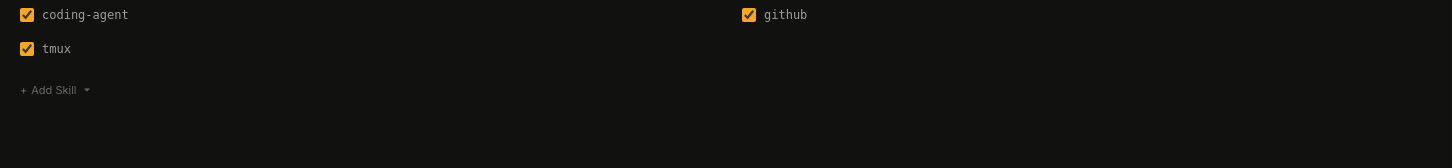
Scenario: SkillsManager › Add Skill dropdown shows unassigned skills
Expected: the text "github" is shown, [764,6,807,24]
# Click Add Skill button
Click the text "Add Skill": [54, 90] box [31,82,77,98]
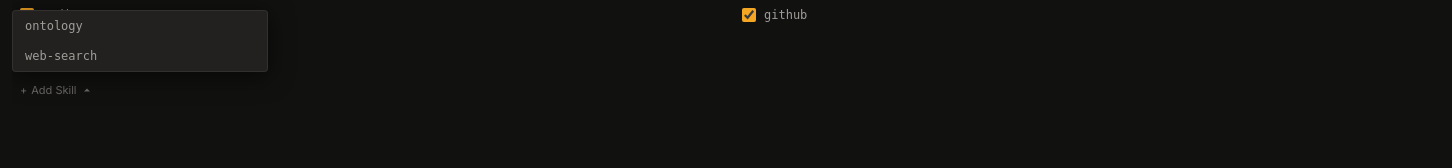
Now the button "ontology" is shown
Now the button "web-search" is shown, box [13,41,267,71]
# Select ontology
Click the button "ontology": [140, 26] box [13,11,267,41]
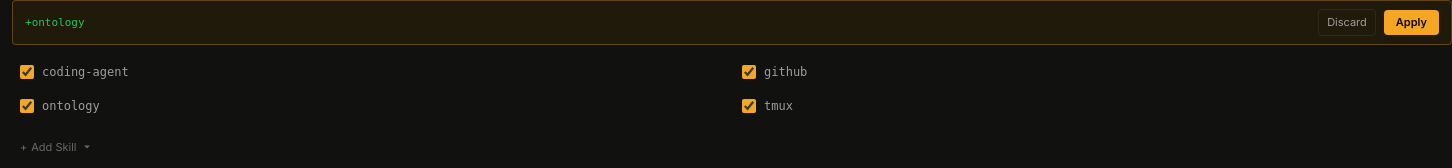
Now the number of checkboxes is 4, box [20,64,34,78]; [742,64,756,78]; [20,98,34,112]; [742,98,756,112]
Now the text "+ontology" is shown, box [25,16,85,28]
